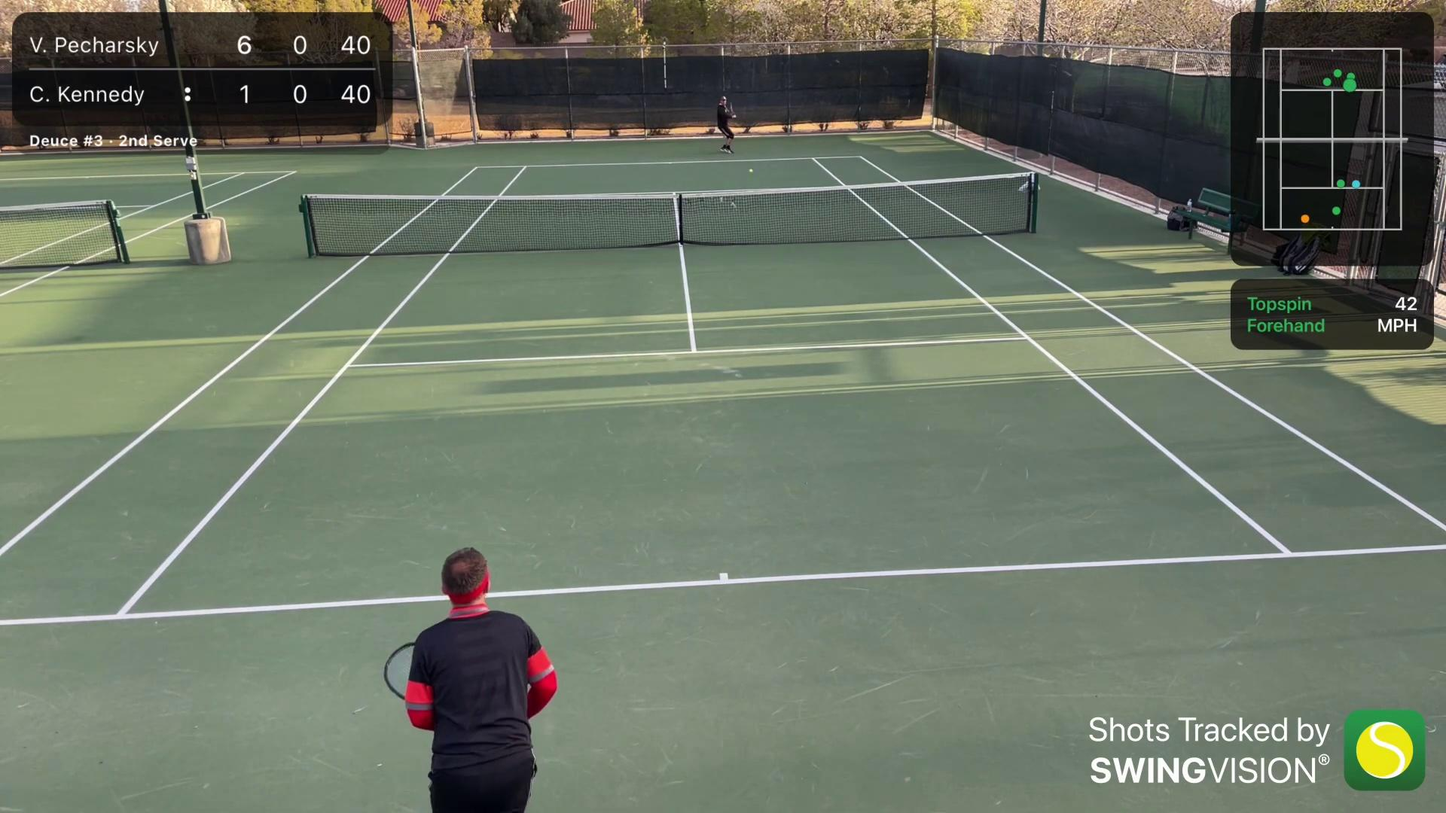ball: (747, 167, 754, 174)
